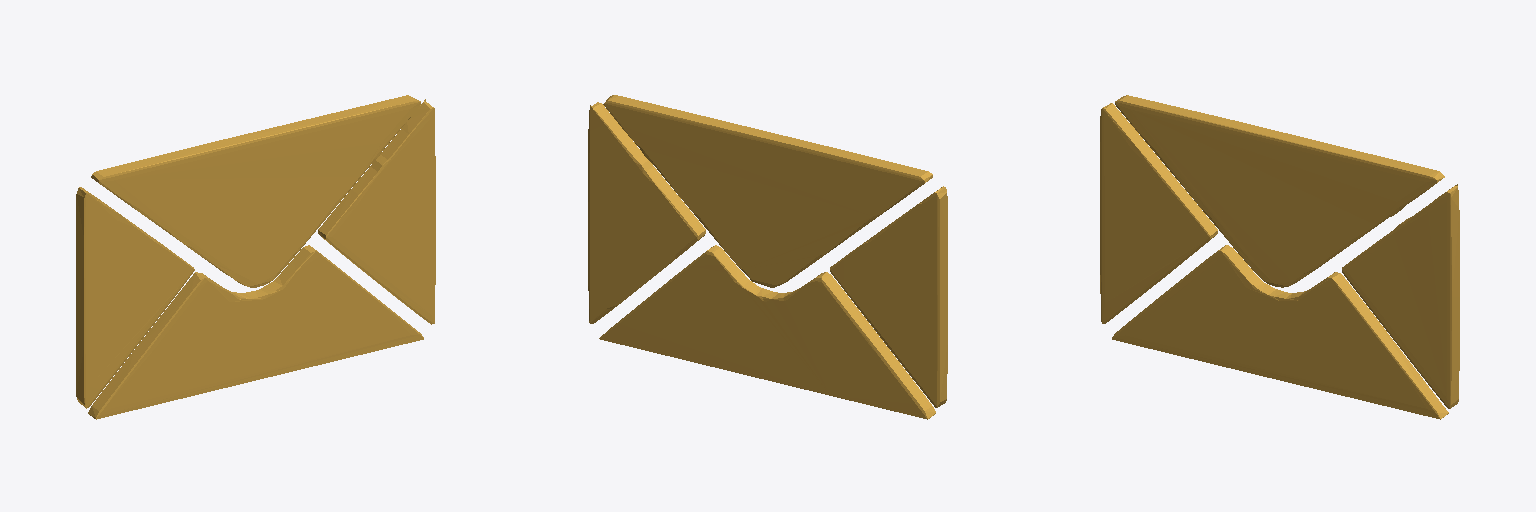
Rendered from mail.obj.
The picture shows the model from 3 angles: view 1: azimuth 30°, elevation 25°; view 2: azimuth 150°, elevation 25°; view 3: azimuth 330°, elevation 25°; orthographic projection.
Parts seen in each view (by area): view 1: obj_0; view 2: obj_0; view 3: obj_0.
Part boxes in pixels (bbox=[...]): obj_0: bbox=[76, 95, 435, 419]; obj_0: bbox=[588, 95, 947, 419]; obj_0: bbox=[1100, 95, 1459, 419].
Bounding box in the file's own units: 0.8629 × 0.5658 × 0.0355.